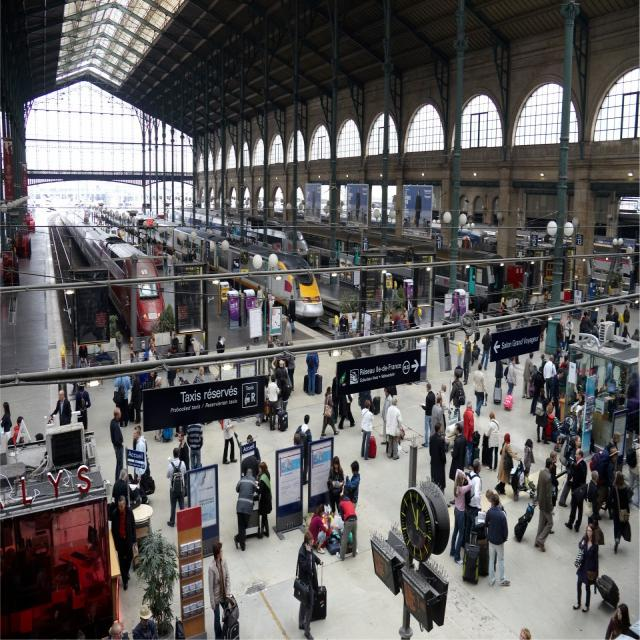body: (4, 187, 636, 337), (207, 539, 240, 639), (296, 530, 324, 640), (545, 397, 598, 451), (331, 372, 380, 427), (110, 497, 137, 592), (484, 492, 511, 587), (447, 468, 473, 565), (572, 522, 599, 614), (232, 467, 259, 550), (533, 457, 555, 553), (558, 433, 586, 508), (483, 493, 508, 576), (607, 470, 632, 553), (564, 446, 588, 532), (463, 457, 483, 554), (165, 447, 187, 529), (494, 432, 522, 496), (594, 448, 618, 518), (429, 420, 447, 512), (150, 376, 174, 444), (448, 420, 467, 505), (336, 493, 358, 562), (108, 404, 125, 492), (292, 413, 312, 486), (255, 460, 273, 539), (133, 426, 150, 505), (384, 395, 404, 461), (481, 411, 501, 471), (326, 456, 345, 519), (419, 382, 436, 448), (132, 424, 149, 489), (112, 374, 132, 428), (320, 385, 340, 438), (306, 501, 326, 552), (275, 339, 295, 390), (471, 362, 489, 418), (463, 399, 476, 474), (177, 429, 191, 498), (133, 603, 159, 640), (604, 603, 630, 640), (344, 459, 362, 512), (448, 370, 466, 422), (360, 399, 375, 461), (266, 373, 282, 431), (47, 389, 72, 426), (74, 380, 91, 434), (185, 422, 204, 470), (604, 431, 625, 474), (534, 387, 549, 444), (111, 468, 133, 506), (11, 414, 25, 473), (550, 367, 565, 422), (429, 394, 446, 442), (587, 470, 601, 528), (529, 365, 545, 415), (628, 437, 640, 503), (222, 417, 238, 465), (0, 401, 13, 459), (381, 385, 393, 446), (522, 438, 535, 493), (549, 449, 560, 513), (543, 353, 557, 403), (521, 351, 535, 400), (305, 351, 319, 398), (306, 352, 320, 398), (130, 372, 142, 425), (503, 356, 518, 396), (93, 340, 116, 366), (479, 326, 492, 371), (615, 617, 640, 640), (461, 333, 472, 385), (258, 374, 269, 425), (181, 333, 195, 373), (245, 433, 261, 468), (140, 349, 151, 399), (440, 382, 450, 437), (505, 620, 535, 637), (169, 330, 179, 380), (104, 620, 130, 639), (523, 468, 536, 504), (277, 377, 290, 412), (470, 319, 480, 361), (267, 333, 276, 379), (605, 306, 615, 347), (167, 347, 177, 387), (574, 393, 584, 431), (349, 312, 357, 358), (131, 349, 142, 382), (563, 314, 573, 350), (556, 318, 564, 362), (448, 302, 457, 341), (338, 312, 350, 340), (282, 314, 292, 347), (493, 358, 504, 388), (78, 344, 90, 369), (369, 308, 379, 338), (287, 293, 296, 323), (612, 307, 621, 336), (256, 284, 266, 309), (193, 365, 206, 384), (590, 316, 600, 339), (396, 312, 406, 332), (559, 354, 570, 372), (565, 333, 575, 352), (621, 324, 631, 343), (584, 312, 592, 335), (148, 343, 158, 361), (216, 335, 226, 353), (408, 309, 417, 329), (622, 303, 631, 323), (179, 375, 193, 387), (581, 310, 588, 333), (599, 318, 605, 344), (34, 432, 45, 446), (539, 352, 548, 369), (579, 316, 588, 333), (293, 433, 304, 446), (630, 328, 640, 342), (145, 336, 154, 351), (192, 248, 198, 261)
